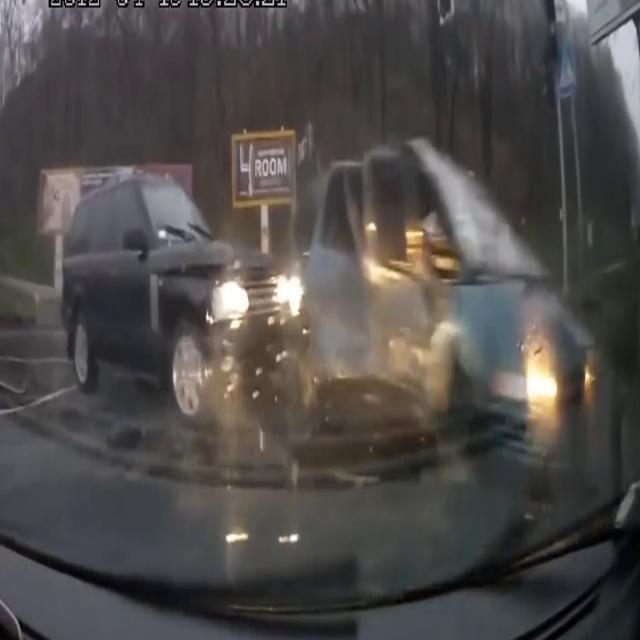accident: (105, 179, 582, 474)
